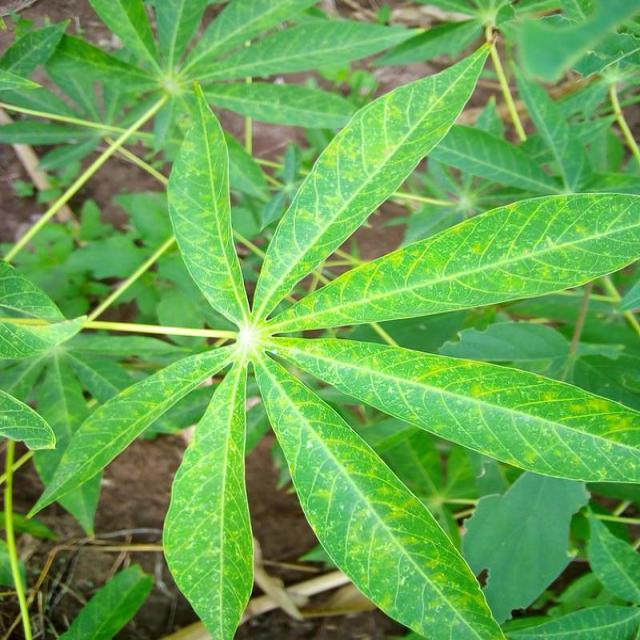cassava leaf: (25, 41, 639, 636), (253, 347, 509, 638), (251, 39, 494, 322), (268, 335, 640, 485), (264, 190, 640, 333), (162, 356, 256, 638)
